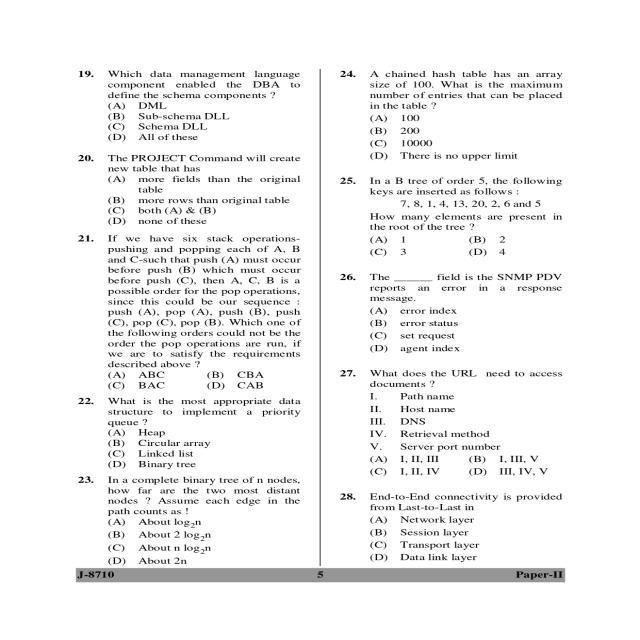Answer_Block: (324, 390, 572, 476), (68, 175, 310, 228), (326, 513, 572, 565), (322, 304, 572, 354), (324, 112, 574, 162), (69, 516, 311, 566), (68, 100, 310, 144), (68, 428, 310, 469), (322, 232, 574, 259), (69, 370, 311, 390)
Question_Answer_Block: (70, 230, 312, 392), (326, 362, 572, 476), (325, 65, 573, 161), (69, 474, 312, 567), (324, 171, 573, 259), (324, 270, 572, 356), (325, 488, 573, 566), (69, 65, 311, 144), (69, 394, 311, 469), (69, 154, 311, 228)
Question_Block: (70, 230, 312, 368), (323, 170, 574, 232), (325, 66, 574, 110), (69, 476, 312, 516), (322, 269, 572, 304), (69, 66, 312, 100), (68, 394, 310, 428), (324, 362, 573, 389), (324, 487, 573, 512), (70, 154, 310, 174)
Question_Paper_Area: (326, 66, 574, 567), (70, 66, 312, 567)
